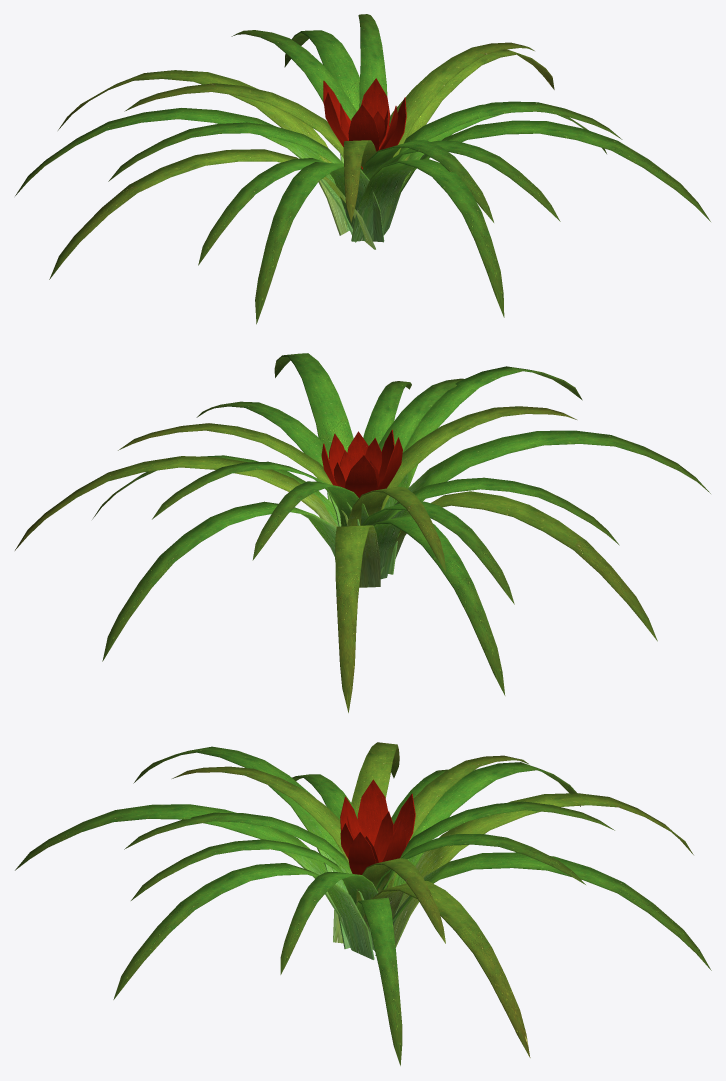
The model's file is Bromeliad3.fbx.
3 views of the same model, one above another, from view 1: azimuth 30°, elevation 25°; view 2: azimuth 150°, elevation 25°; view 3: azimuth 270°, elevation 25° (orthographic).
Parts seen in each view (by area): view 1: Bromeliad3; view 2: Bromeliad3; view 3: Bromeliad3.
Part boxes in pixels (x1,y1,x2,y2): Bromeliad3: (15, 14, 710, 324); Bromeliad3: (15, 353, 710, 712); Bromeliad3: (15, 742, 711, 1065).
Size of the model in its own units: 66.76 by 16.94 by 70.4.
